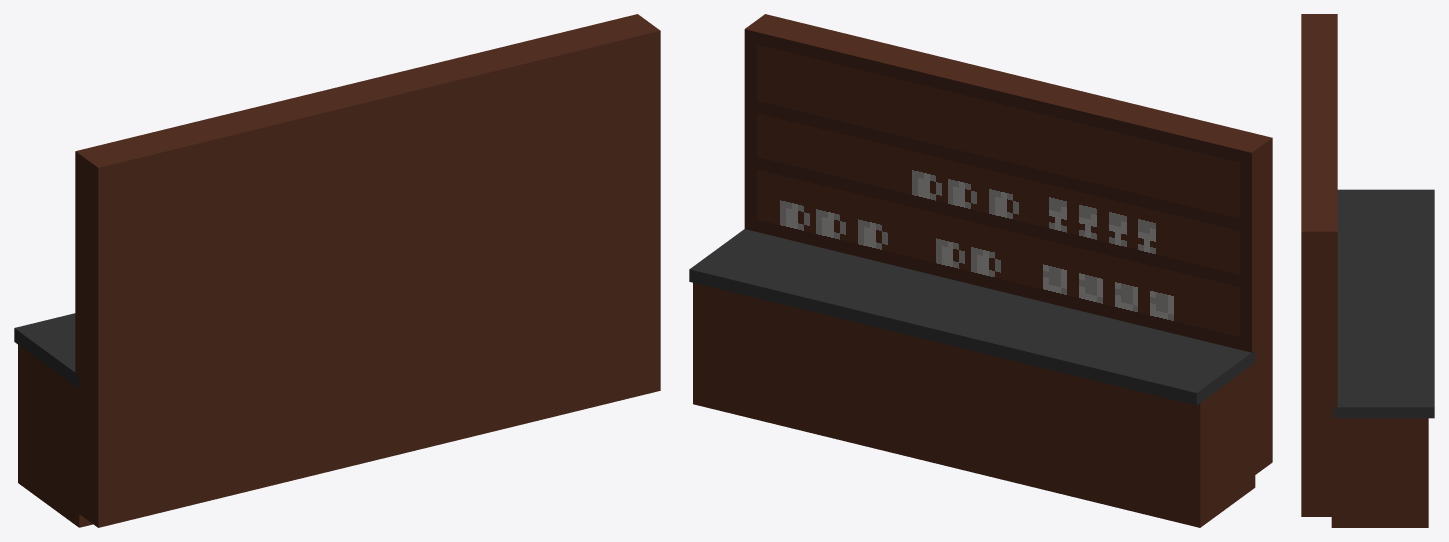
Rendered from barback-variant.gltf.
The picture shows the model from 3 angles, left to right: view 1: azimuth 30°, elevation 25°; view 2: azimuth 150°, elevation 25°; view 3: azimuth 270°, elevation 25°; orthographic projection. The views are drawn at different scales.
Parts seen in each view (by area): view 1: cuboid; view 2: cuboid; view 3: cuboid.
Boxes of the visible parts, <box> form: cuboid: <box>14,14,660,527</box>; cuboid: <box>689,14,1272,527</box>; cuboid: <box>1301,14,1434,527</box>.
Bounding box in the file's own units: 5.31 × 3.38 × 1.38.
1 material, 1 textured.
